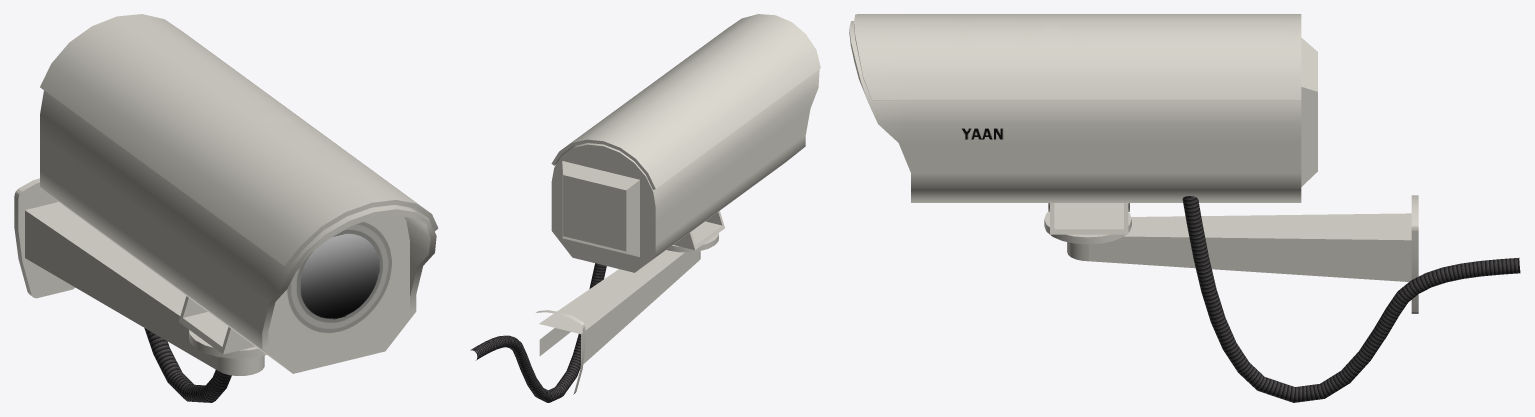
The picture shows the model from 3 angles, left to right: view 1: azimuth 30°, elevation 25°; view 2: azimuth 150°, elevation 25°; view 3: azimuth 270°, elevation 25°; orthographic projection. The views are drawn at different scales.
Visible parts, largest first — view 1: Lo-BODY_01; view 2: Lo-BODY_01; view 3: Lo-BODY_01.
Part boxes in pixels (bbox=[...]): Lo-BODY_01: bbox=[14, 14, 438, 402]; Lo-BODY_01: bbox=[470, 14, 820, 402]; Lo-BODY_01: bbox=[849, 14, 1520, 402].
Size of the model in its own units: 0.1006 by 0.2478 by 0.43.
1 material, 1 textured.
